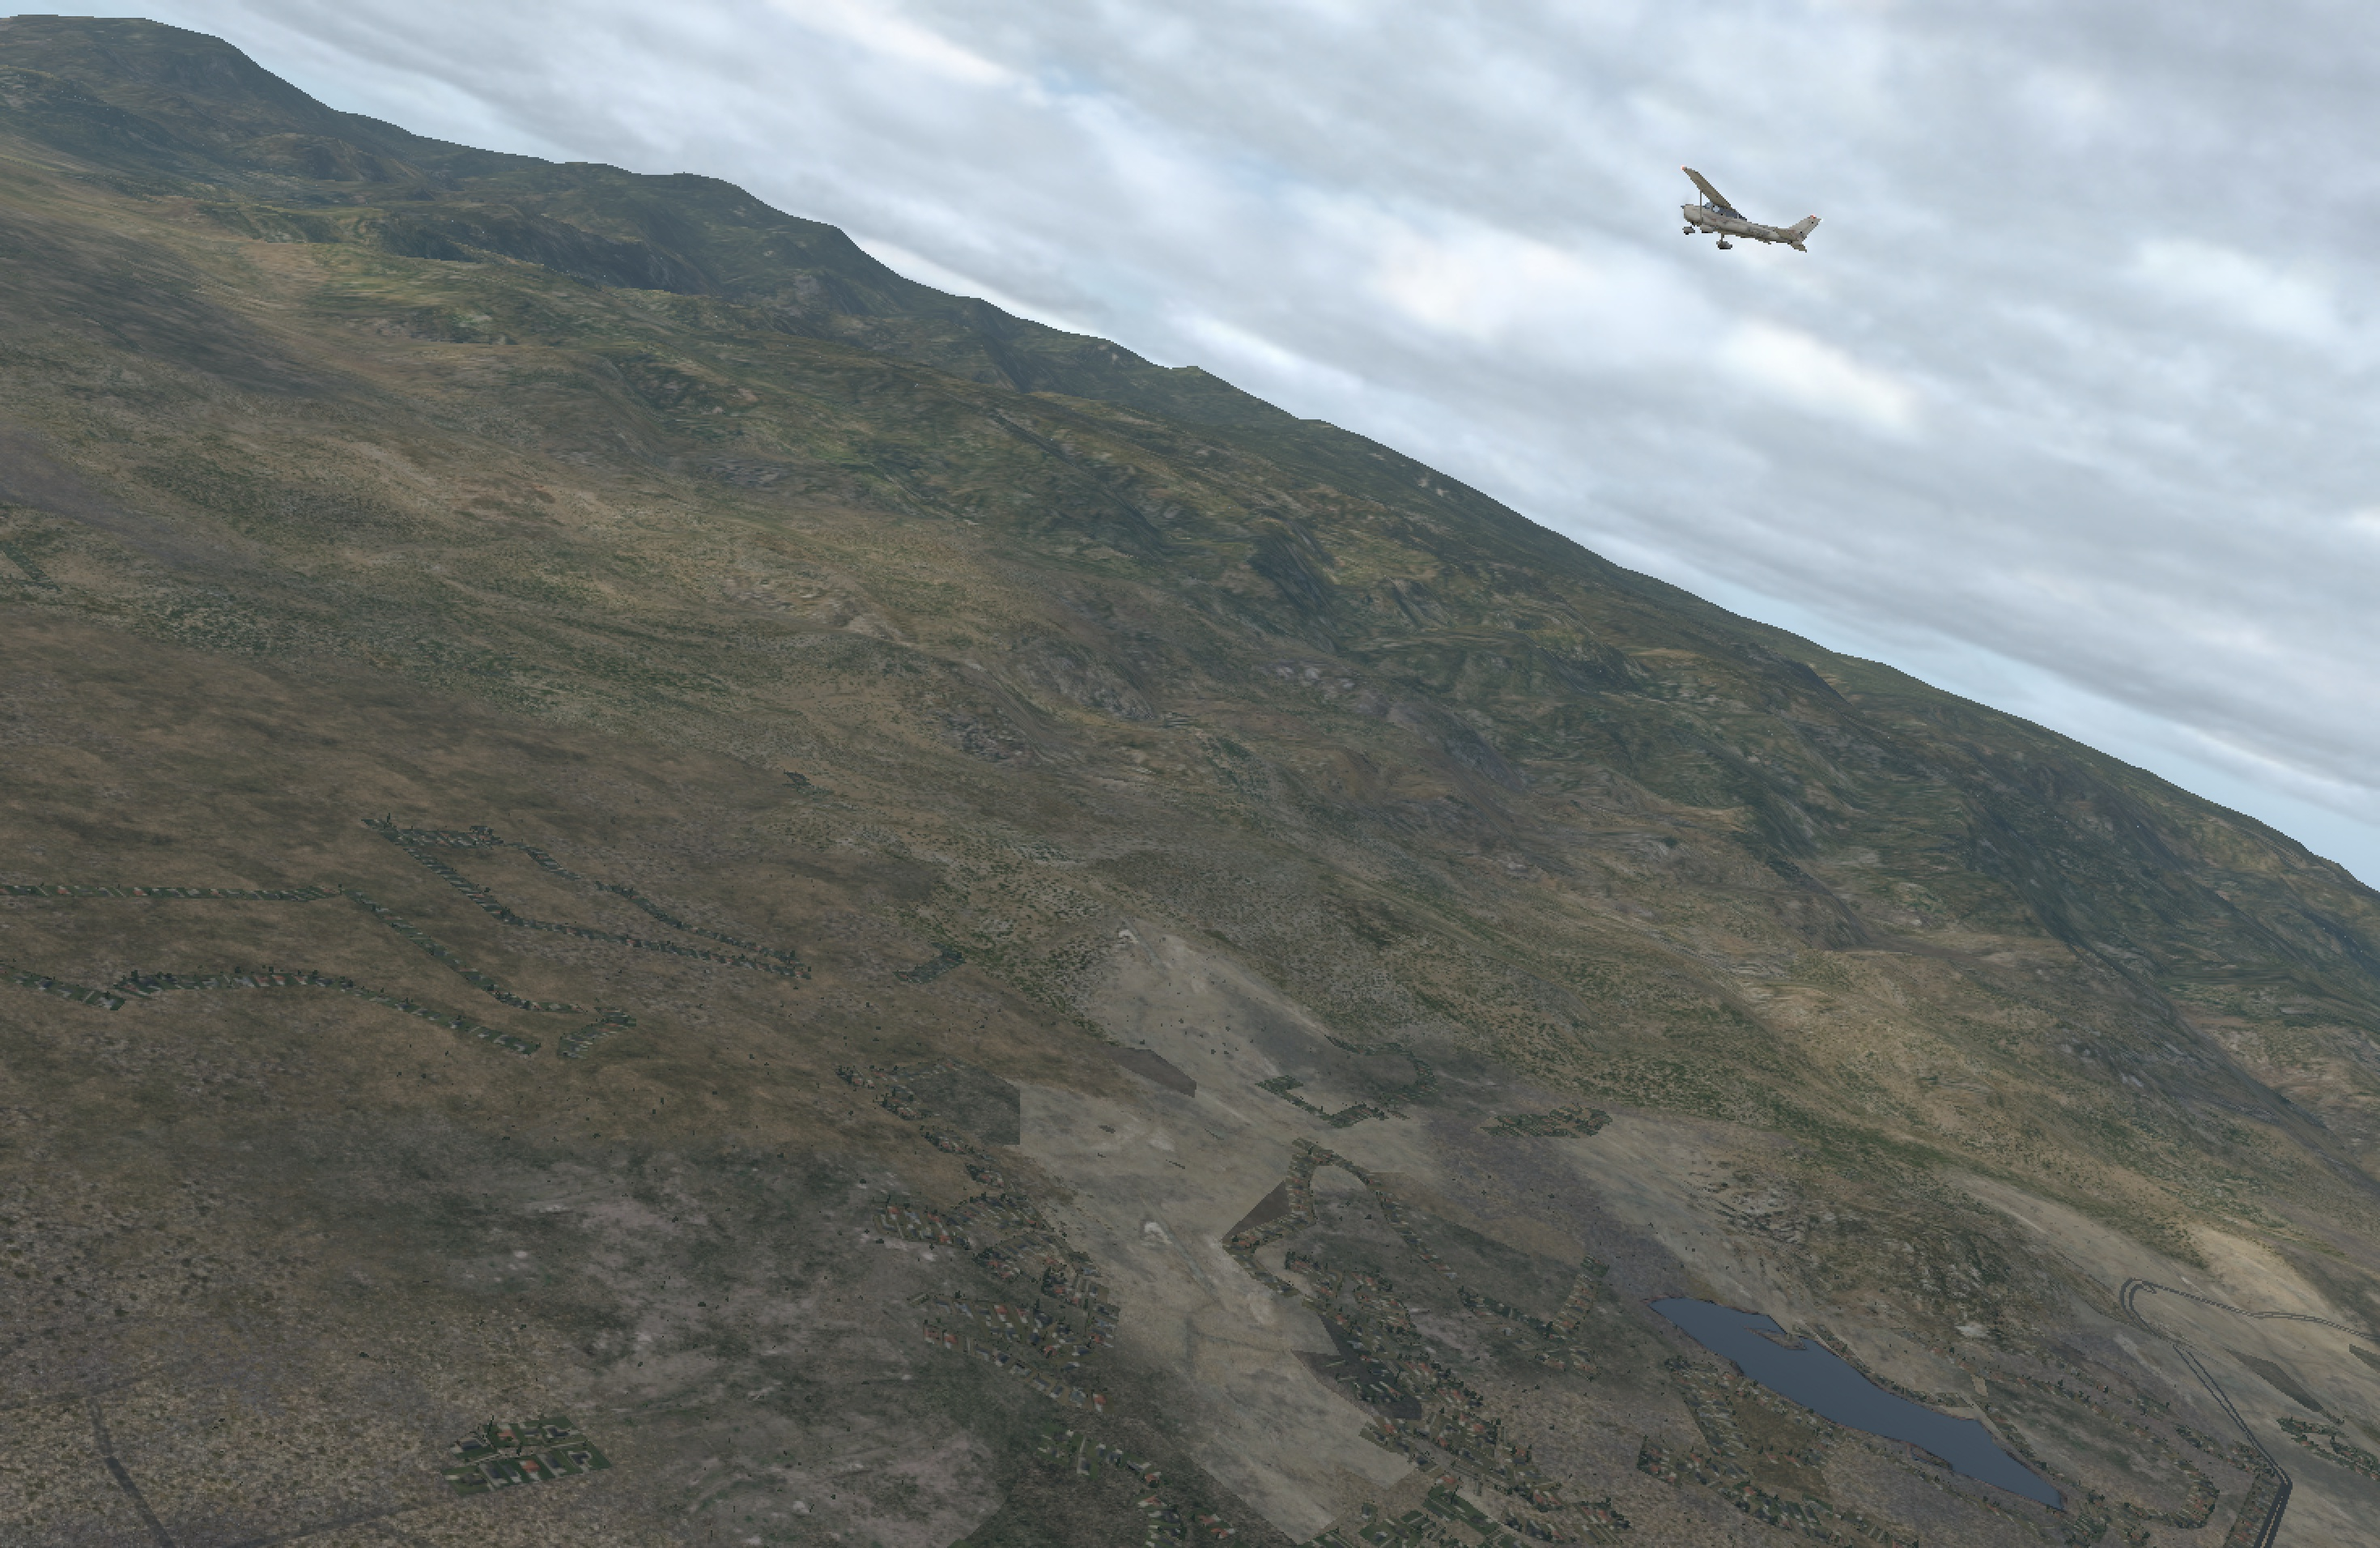aircraft: (1651, 191, 1785, 241)
